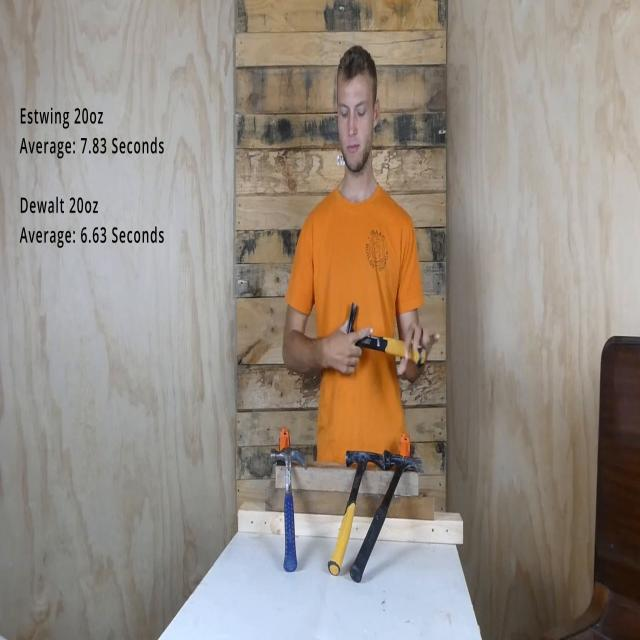hammer: (350, 453, 422, 583), (328, 449, 386, 579), (347, 304, 428, 368), (270, 445, 307, 576)
